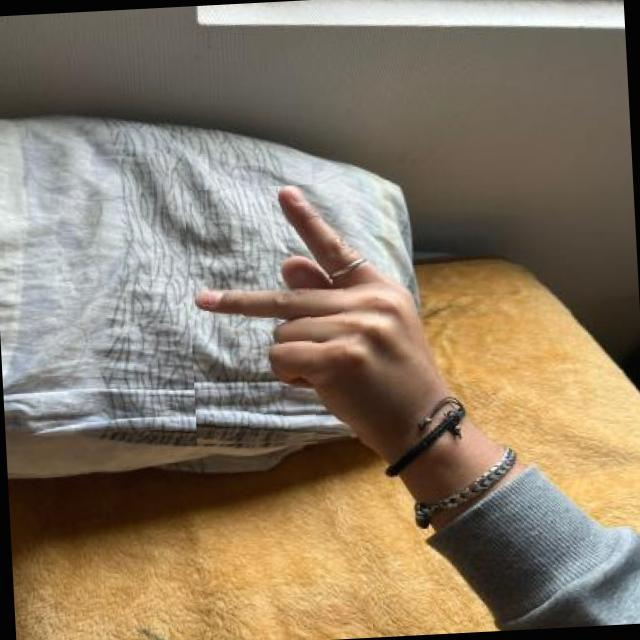K: (184, 178, 436, 452)
